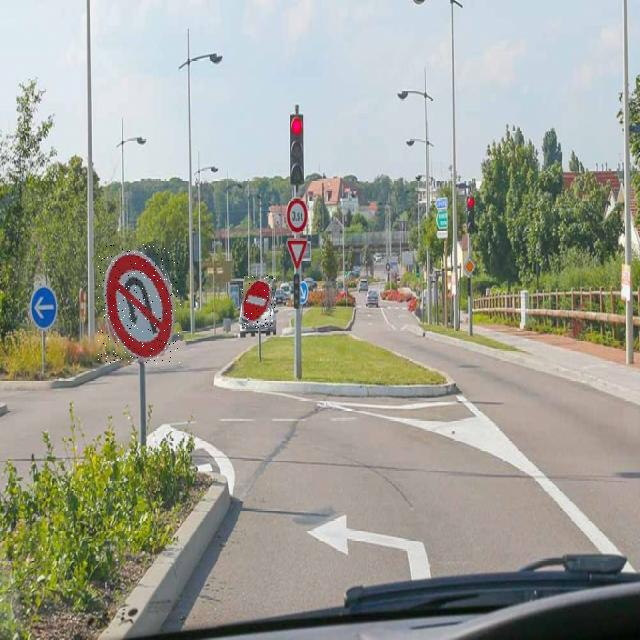no entry: (242, 275, 275, 328)
no u turn: (98, 244, 181, 364)
